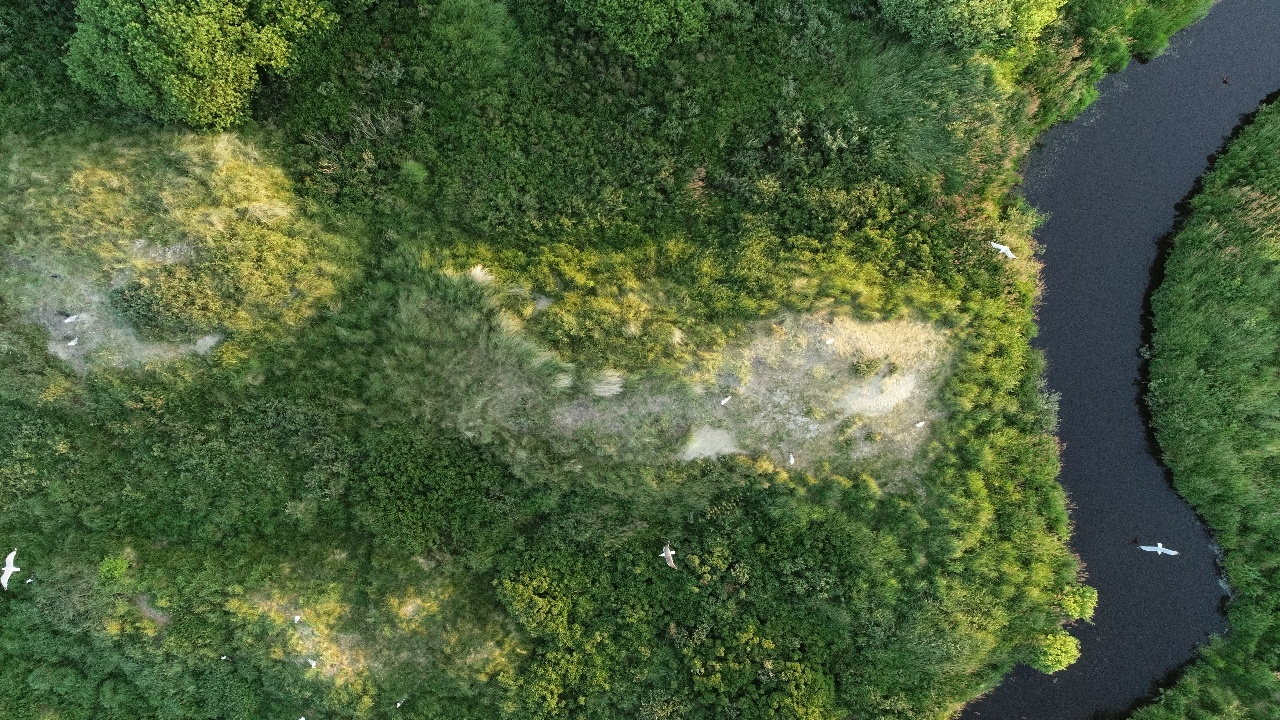Bird: (1138, 532, 1185, 572), (1, 543, 31, 594), (648, 538, 686, 573), (56, 328, 91, 357), (53, 304, 88, 333), (280, 603, 315, 632), (294, 648, 329, 677), (208, 643, 243, 672), (772, 444, 807, 473), (905, 410, 940, 439), (815, 327, 850, 356), (709, 384, 744, 413), (988, 236, 1023, 265)
